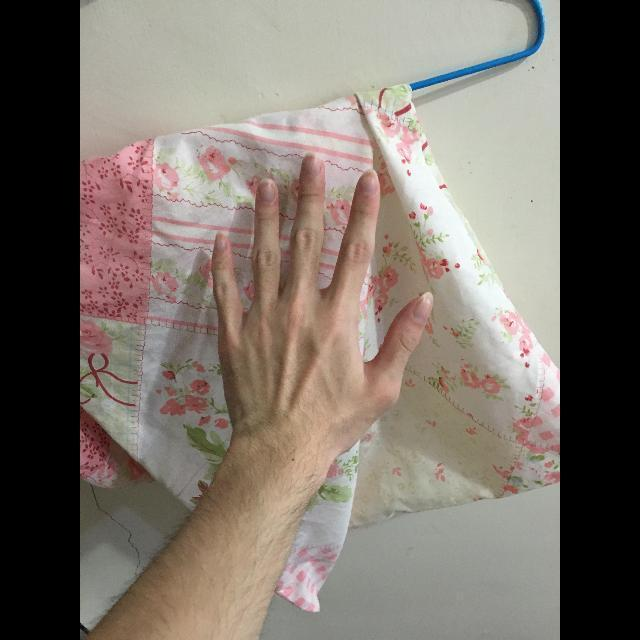bare_hand: (206, 147, 439, 452)
